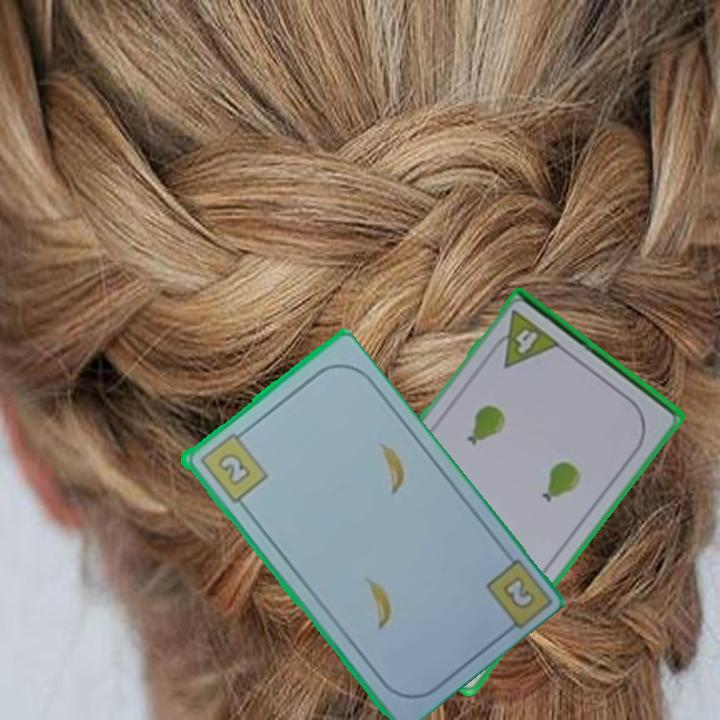2b: (195, 426, 271, 506), (498, 572, 538, 613)
4p: (486, 307, 564, 371)
